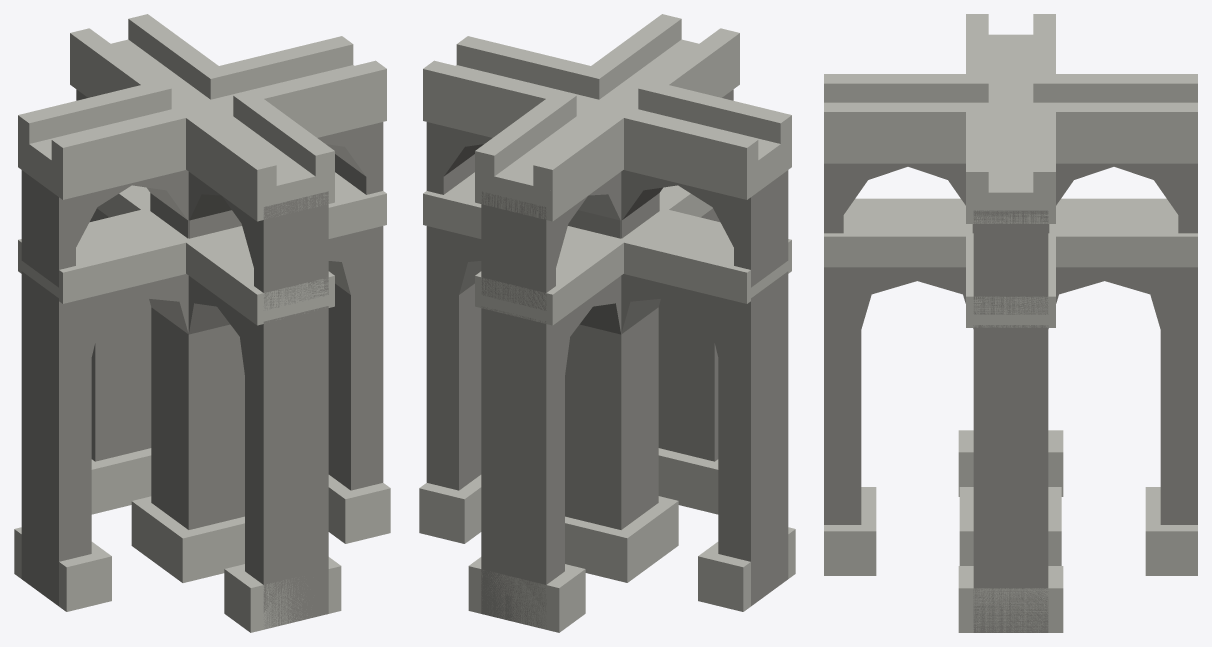
File: aquaduct_fourway.fbx
3 views of the same model, side by side, from view 1: azimuth 30°, elevation 25°; view 2: azimuth 150°, elevation 25°; view 3: azimuth 270°, elevation 25° (orthographic).
Parts seen in each view (by area): view 1: polySurface269; view 2: polySurface269; view 3: polySurface269.
Part boxes in pixels (bbox=[...]): polySurface269: bbox=[14, 14, 390, 632]; polySurface269: bbox=[419, 14, 795, 632]; polySurface269: bbox=[824, 14, 1197, 632].
Size of the model in its own units: 100 by 136 by 100.
Materials: 1 (1 with a texture image).
